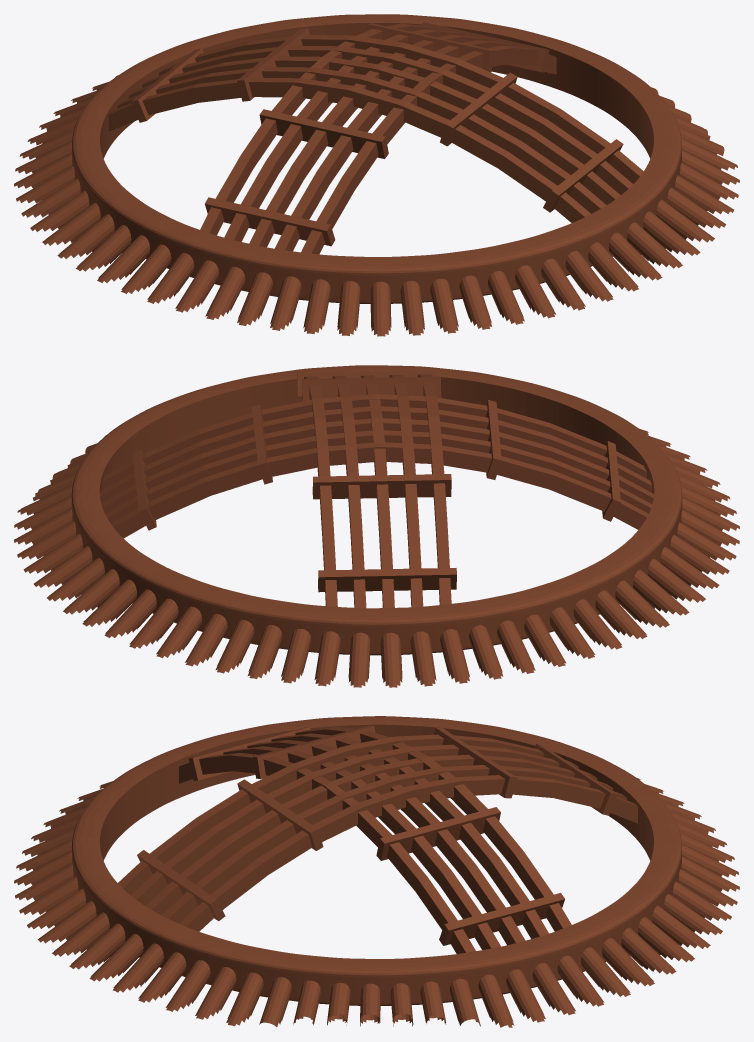
The model's file is shanyraq.glb.
The picture shows the model from 3 angles, top to bottom: view 1: azimuth 30°, elevation 25°; view 2: azimuth 150°, elevation 25°; view 3: azimuth 270°, elevation 25°; orthographic projection.
Visible parts, largest first — view 1: Cube.003; view 2: Cube.003; view 3: Cube.003.
Boxes of the visible parts, x1,y1,x2,y2 form: Cube.003: (14,14,739,336); Cube.003: (14,365,739,687); Cube.003: (14,716,739,1027).
Size of the model in its own units: 0.1724 by 0.0317 by 0.1785.
